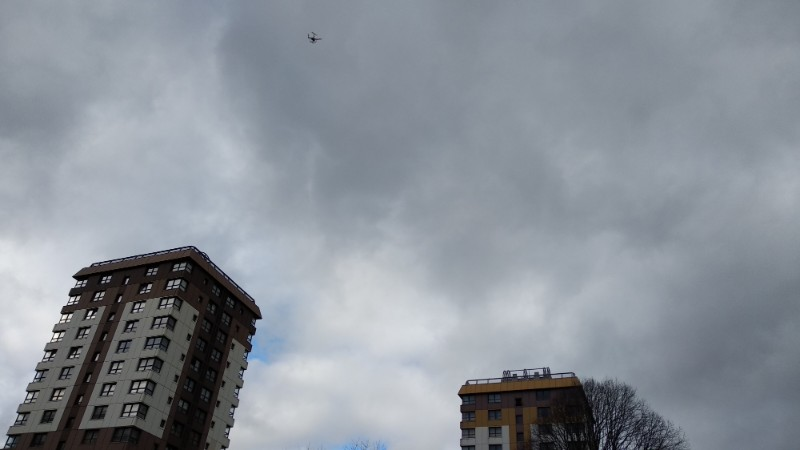drone: (307, 32, 320, 44)
